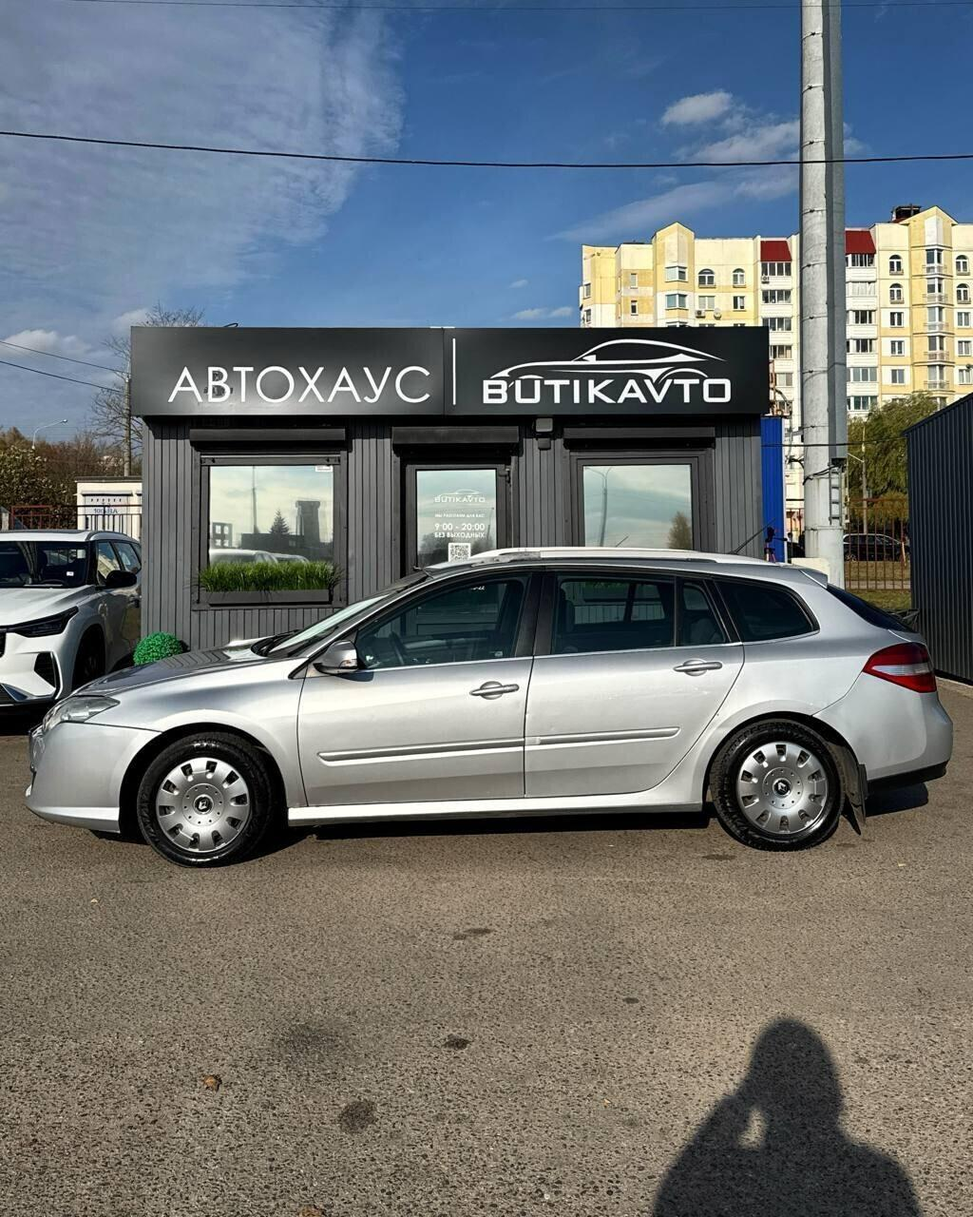Laguna_2007-2011: (26, 547, 952, 868)
